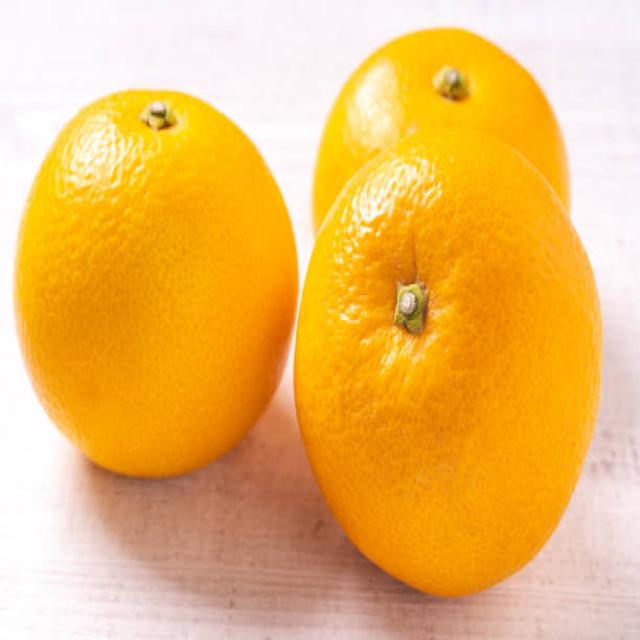Ripe: (288, 119, 607, 602), (10, 78, 296, 483)
